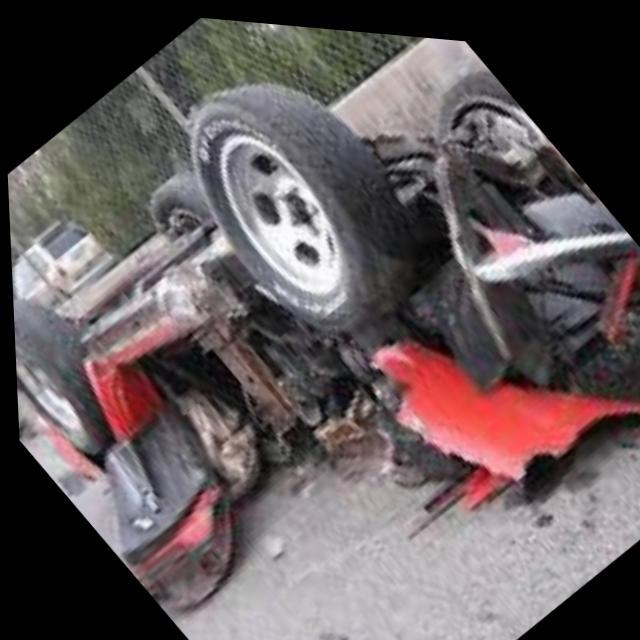crash: (73, 136, 640, 604)
